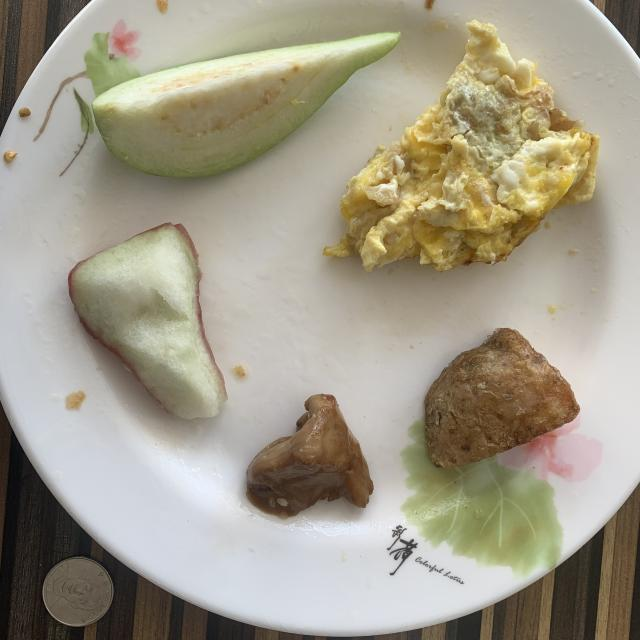coin: (42, 556, 114, 626)
fried potato: (425, 329, 580, 468)
guava -sliced-: (92, 32, 400, 178)
